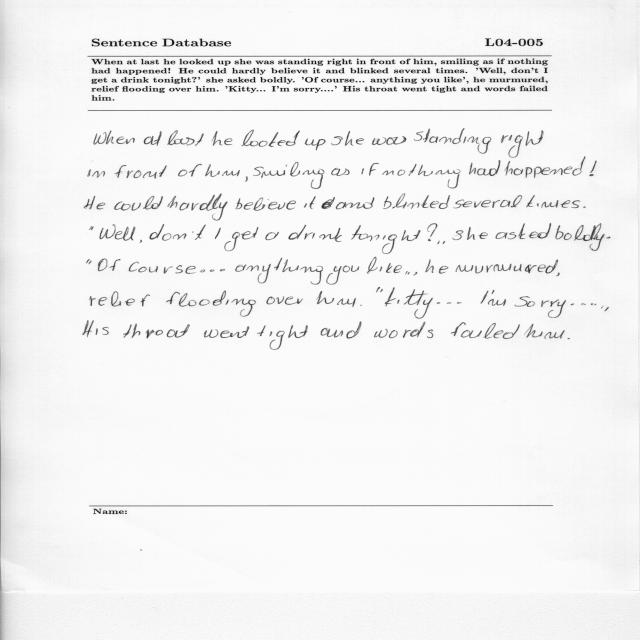word: (235, 258, 323, 285), (166, 291, 256, 317), (414, 128, 491, 154), (352, 225, 421, 254), (253, 162, 325, 189), (383, 164, 461, 188), (167, 194, 228, 221), (505, 158, 586, 178), (385, 287, 433, 319), (456, 260, 559, 274), (555, 223, 605, 251), (257, 325, 308, 350), (501, 130, 543, 158), (451, 322, 520, 339), (514, 296, 566, 318), (241, 129, 300, 147), (383, 194, 450, 209), (123, 324, 190, 339), (149, 224, 206, 241), (374, 322, 433, 338), (288, 225, 342, 242), (90, 292, 150, 307), (453, 195, 522, 208), (496, 224, 552, 240), (225, 227, 259, 251), (129, 262, 196, 274), (235, 198, 296, 211), (114, 196, 163, 211), (115, 165, 167, 179), (527, 195, 581, 208), (321, 322, 362, 339), (327, 265, 360, 285), (322, 197, 375, 209), (317, 291, 356, 307), (100, 224, 136, 241), (367, 257, 402, 274), (167, 130, 204, 146), (526, 324, 565, 339), (94, 131, 135, 145), (204, 326, 249, 338), (469, 160, 500, 176), (332, 131, 365, 146), (205, 164, 240, 177), (453, 227, 488, 240), (83, 321, 109, 338), (267, 296, 303, 305), (426, 259, 449, 273), (372, 136, 406, 145), (212, 131, 232, 146), (178, 164, 202, 176), (488, 290, 506, 306), (98, 259, 120, 272), (84, 196, 105, 209), (144, 131, 162, 146), (305, 139, 326, 151), (361, 163, 379, 176), (427, 224, 437, 242), (304, 196, 316, 209), (88, 169, 105, 178), (331, 168, 350, 176), (265, 232, 279, 240), (590, 161, 597, 176), (481, 291, 489, 304), (200, 269, 225, 273), (215, 228, 221, 239), (571, 303, 597, 305), (437, 302, 462, 304), (376, 288, 383, 293), (437, 241, 445, 245), (87, 259, 92, 264), (405, 271, 410, 275), (245, 176, 248, 182), (90, 227, 94, 231), (556, 273, 560, 277), (605, 307, 609, 311), (414, 272, 418, 275), (606, 237, 611, 239), (139, 240, 142, 243), (583, 206, 586, 208), (567, 338, 570, 339), (360, 305, 362, 306), (601, 307, 603, 308)
